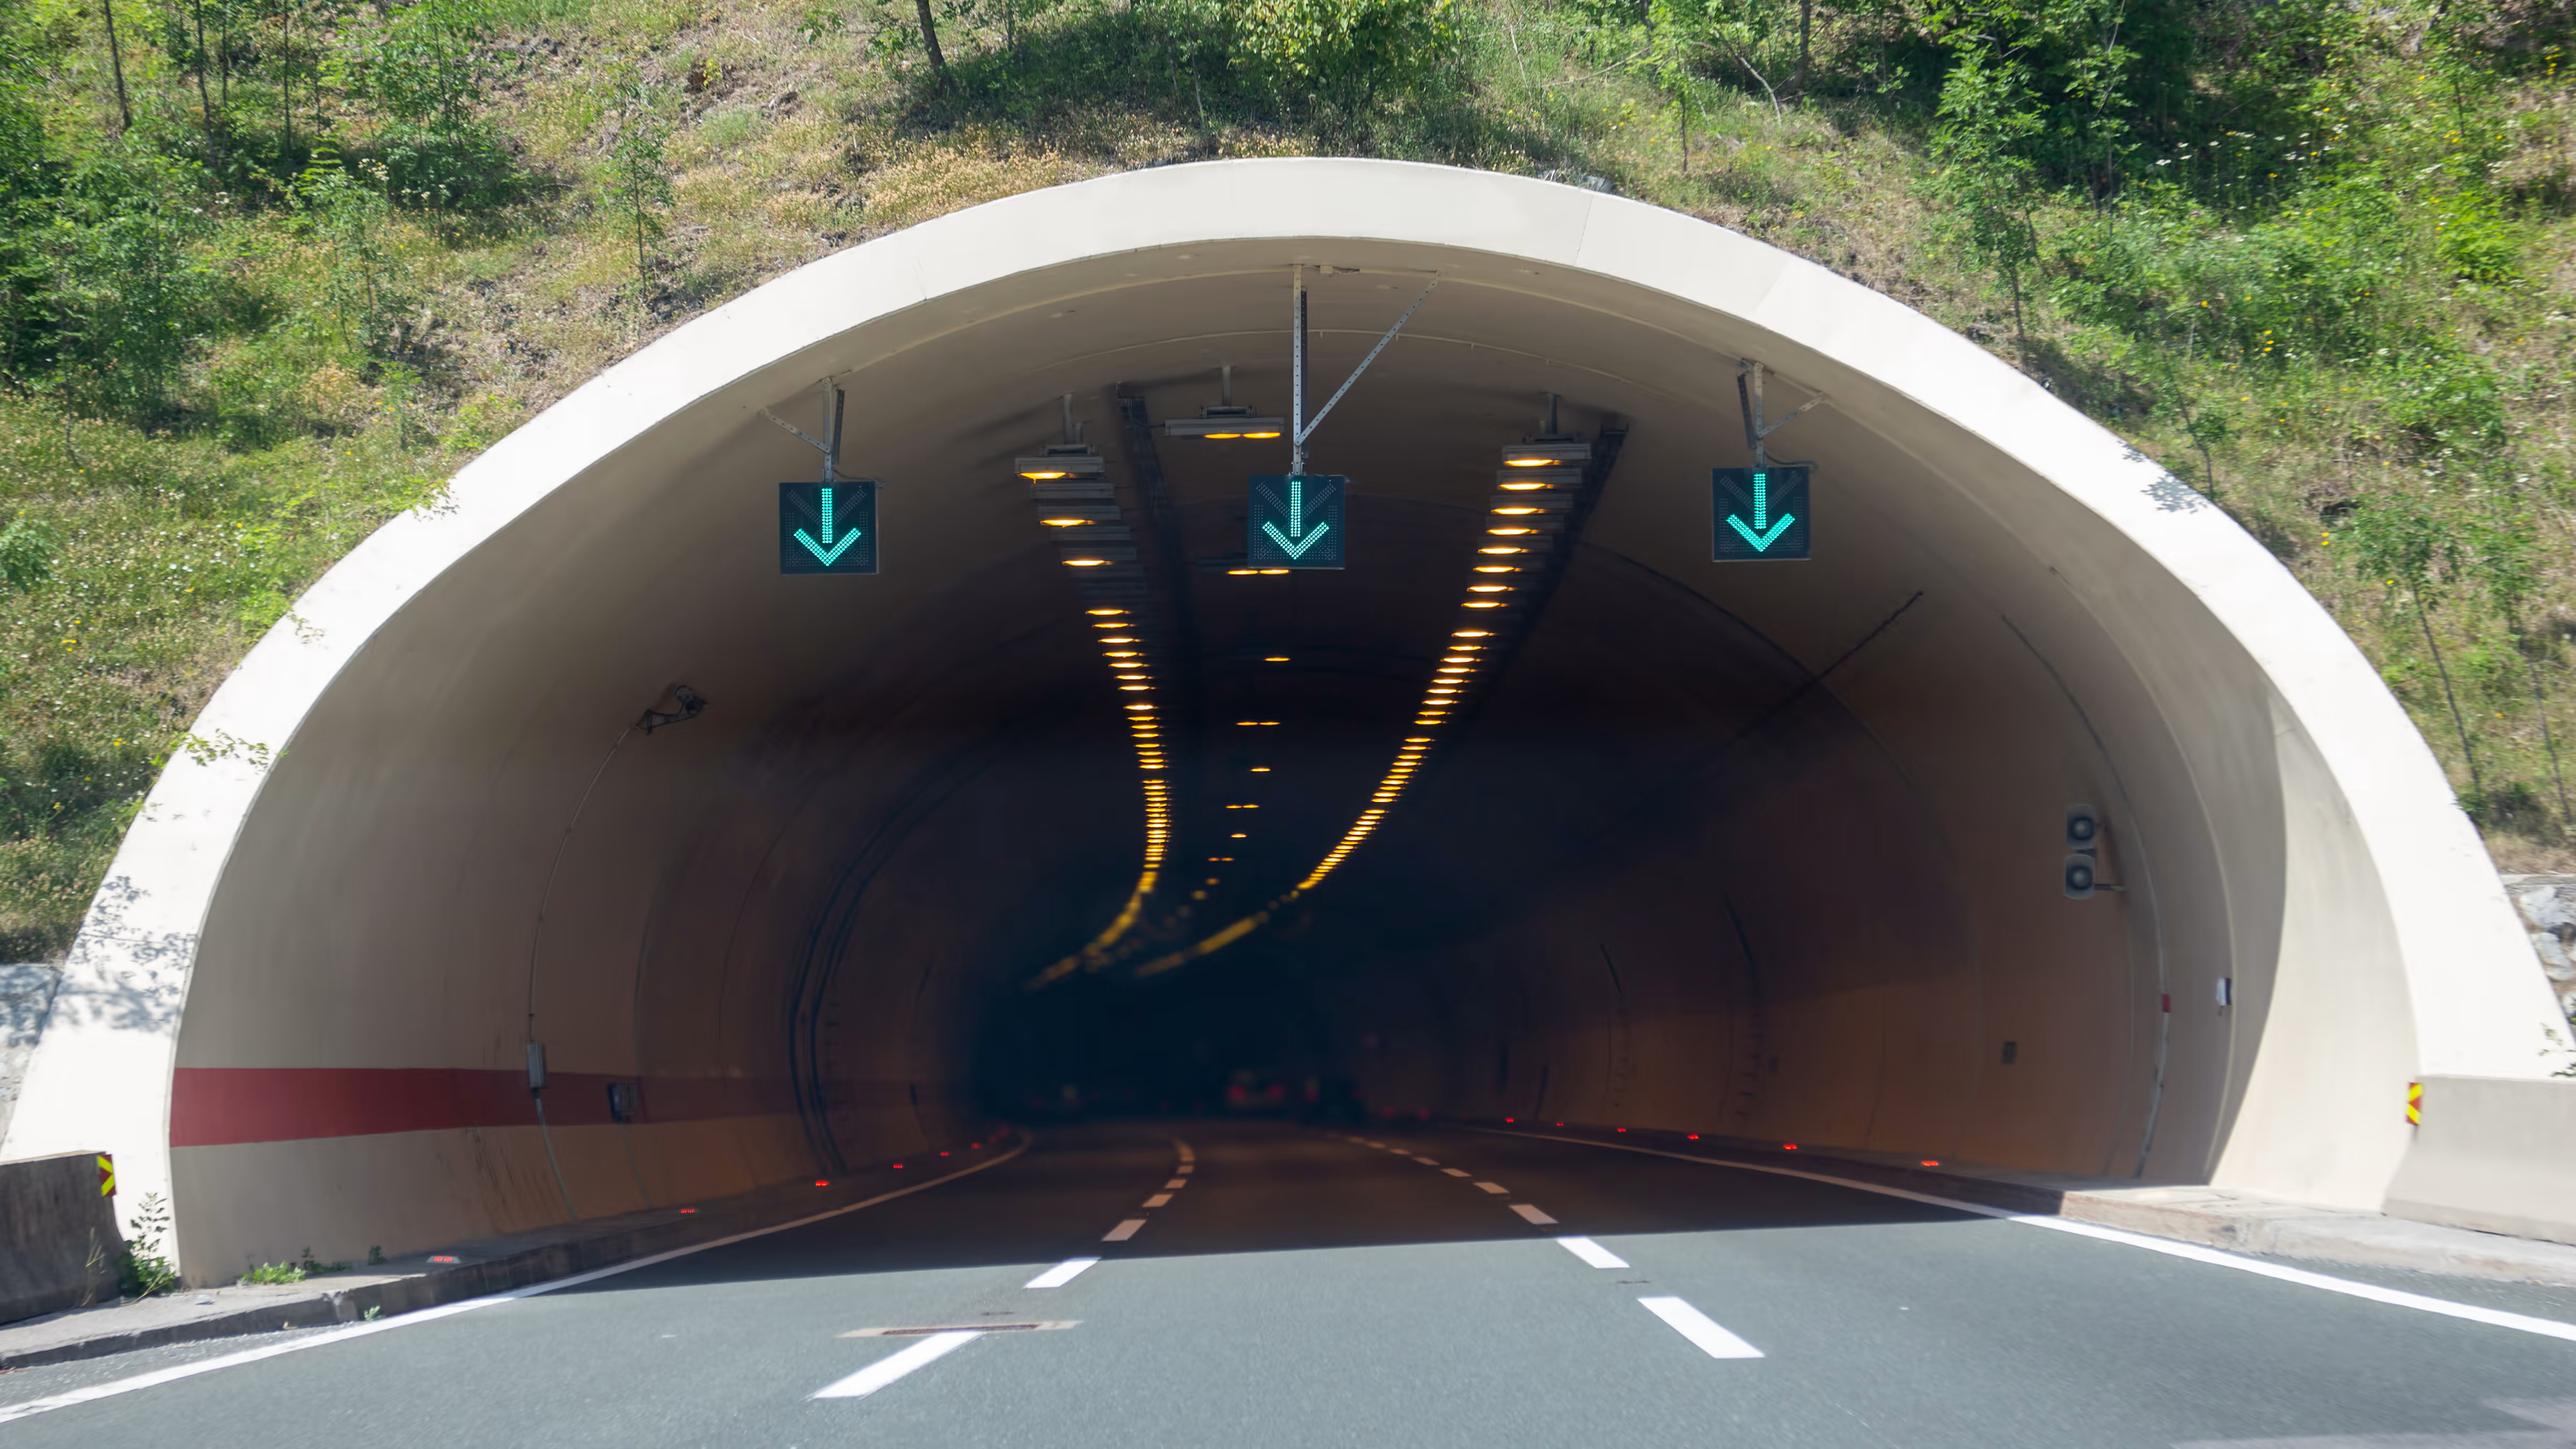Real_Tunnel: (0, 156, 2569, 1313)
